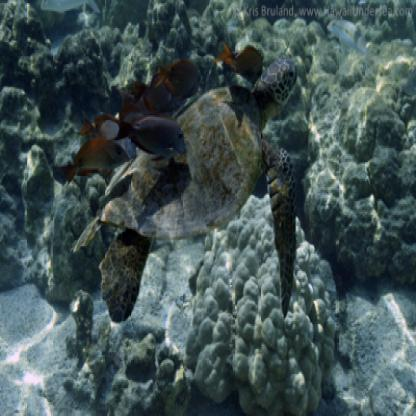Acanthuridae -Surgeonfishes-: (54, 135, 131, 182), (78, 107, 139, 163), (117, 115, 189, 158), (210, 40, 266, 84), (155, 54, 204, 102)
